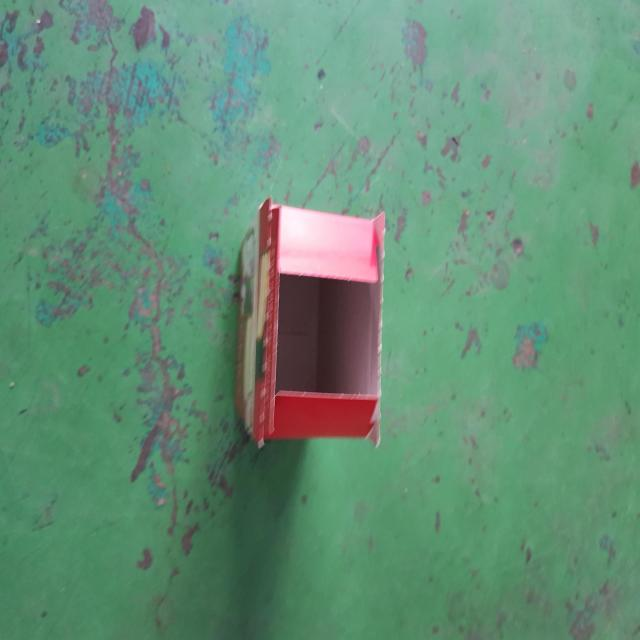paperpack: (235, 197, 385, 447)
